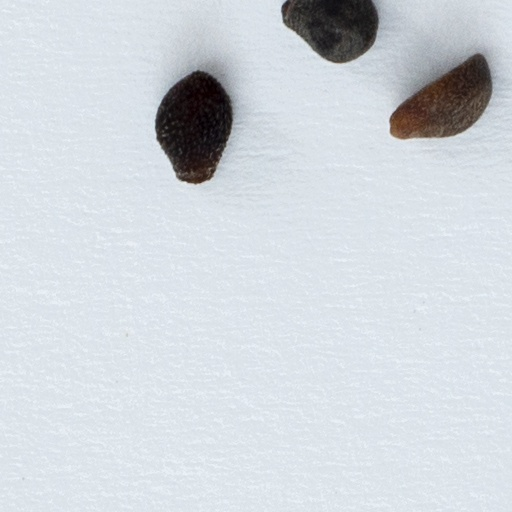Convolvulus-poly: (386, 45, 493, 139), (156, 64, 235, 184), (279, 0, 379, 66)
